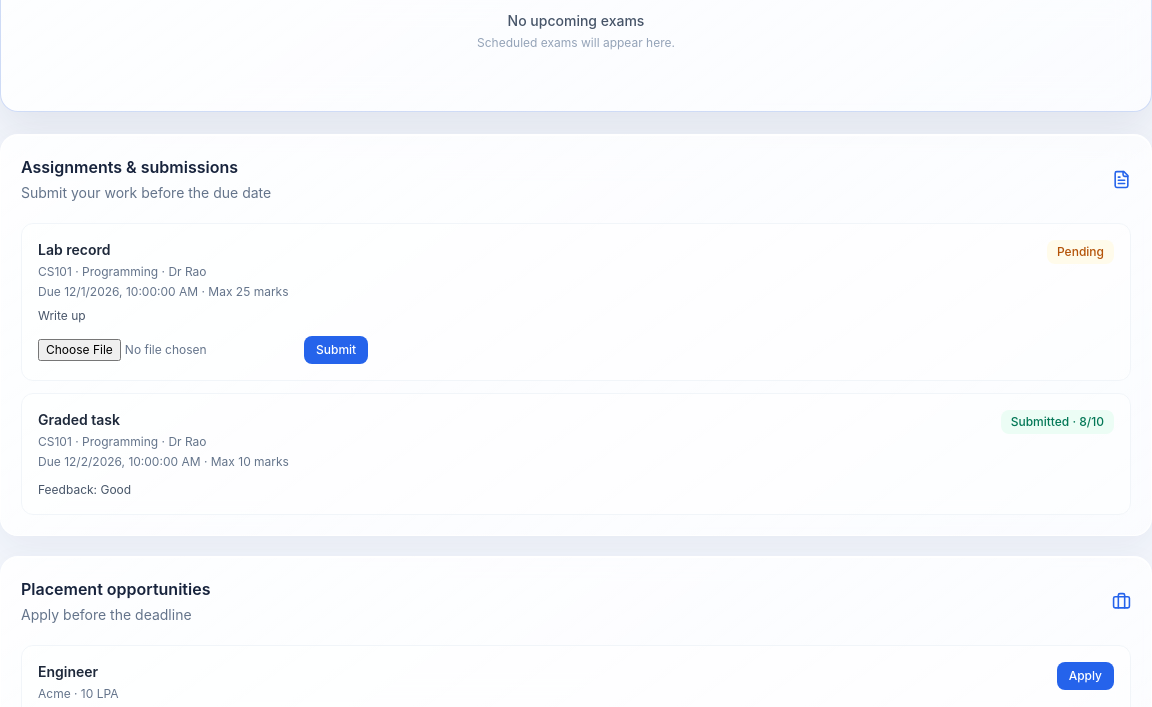
Scenario: StudentPortal › submits an assignment without a file
(page scrolled)
Expected: the text "Lab record" is shown, [38,241,110,258]
Click the button "Submit" at point(336, 350), box [304,336,368,364]
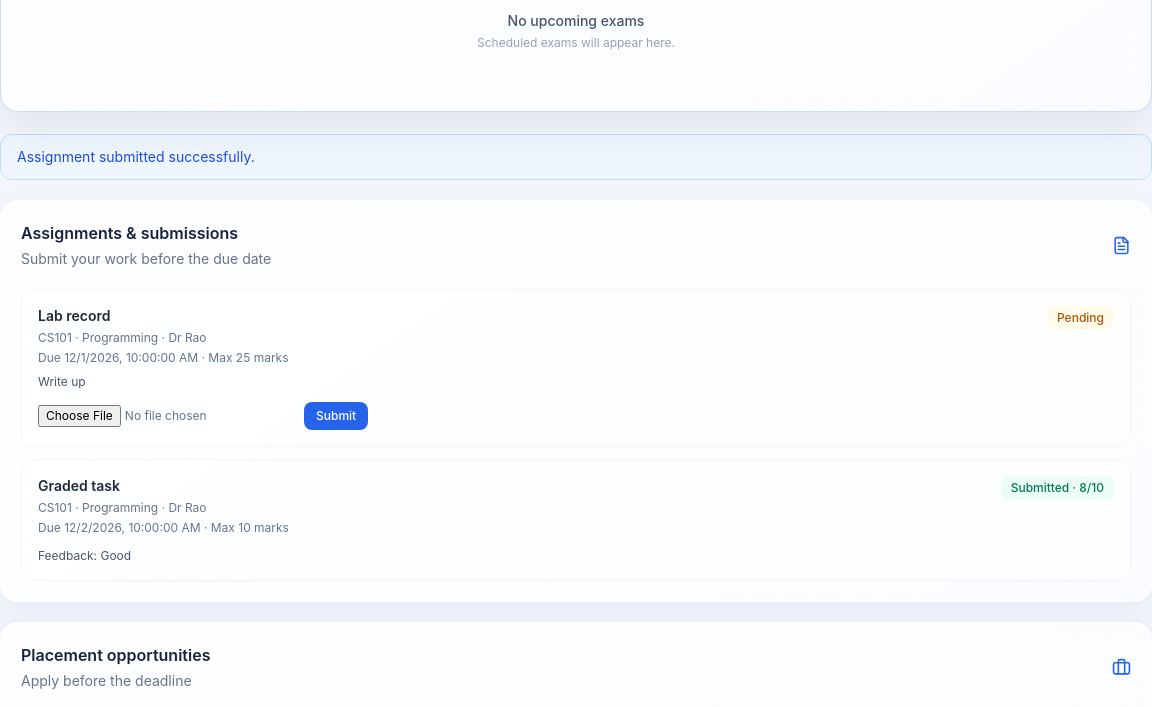
Expected: the text "Assignment submitted successfully." is shown, [0,134,1151,180]
